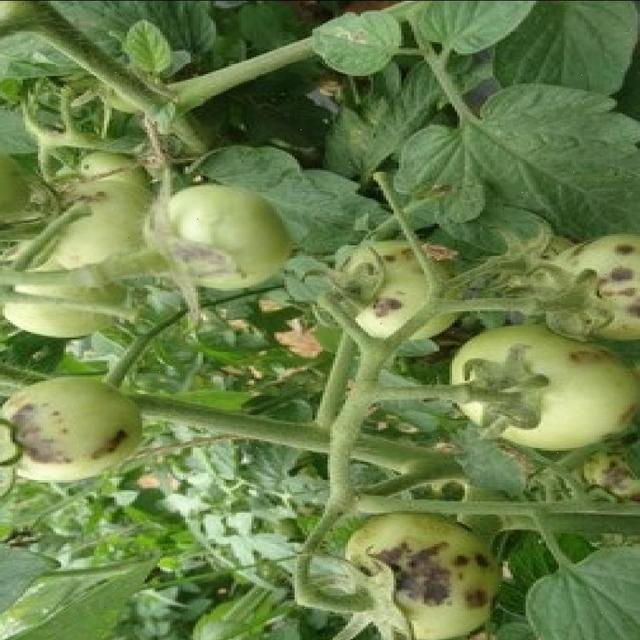Spotted wilt Virus Fruit: (48, 70, 391, 385)
